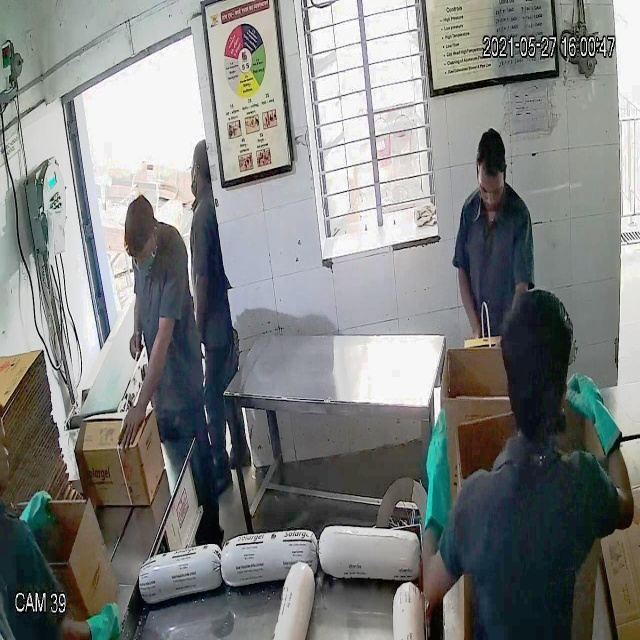Sin_gafas: (476, 172, 507, 202)
